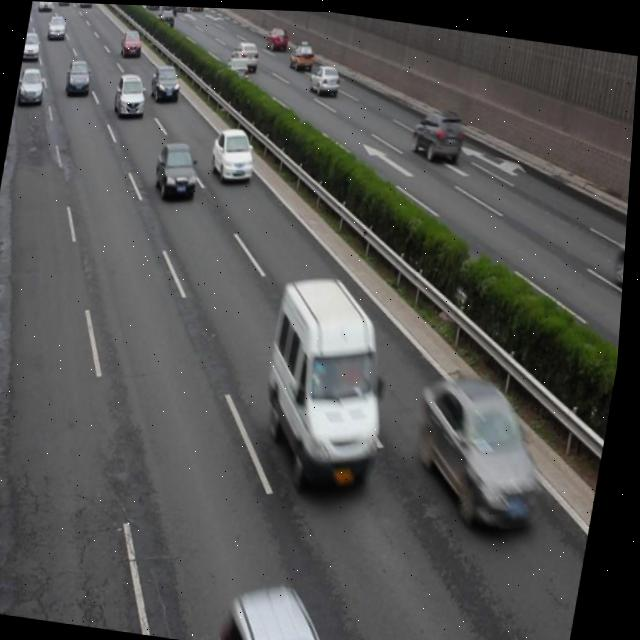car: (409, 365, 561, 535), (230, 578, 358, 640), (408, 100, 469, 163), (154, 135, 205, 203), (210, 121, 260, 182), (112, 69, 151, 120), (149, 59, 184, 103), (16, 63, 49, 108), (612, 214, 630, 290), (308, 58, 343, 96), (64, 58, 95, 99), (220, 53, 252, 88), (287, 40, 316, 70)
truck: (255, 267, 408, 495)
